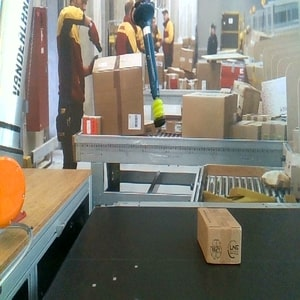box: (195, 207, 242, 265)
